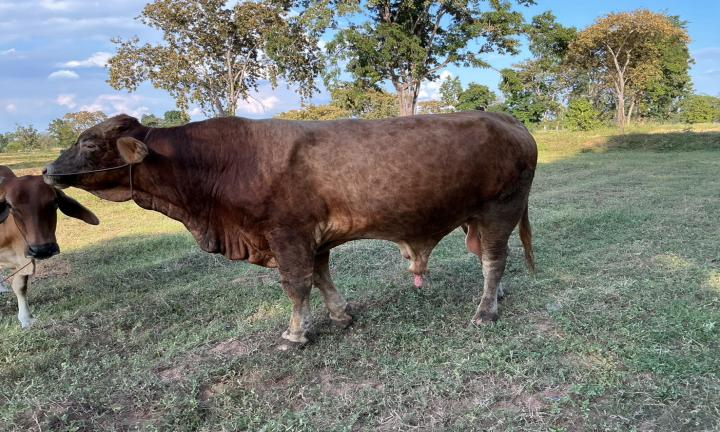Charolais: (43, 111, 537, 349)
